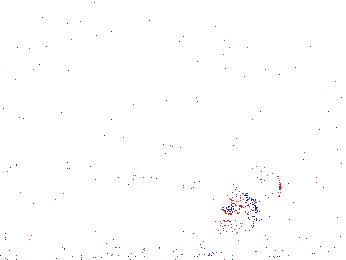flame jellyfish: (60, 166, 132, 219), (221, 165, 282, 219)
